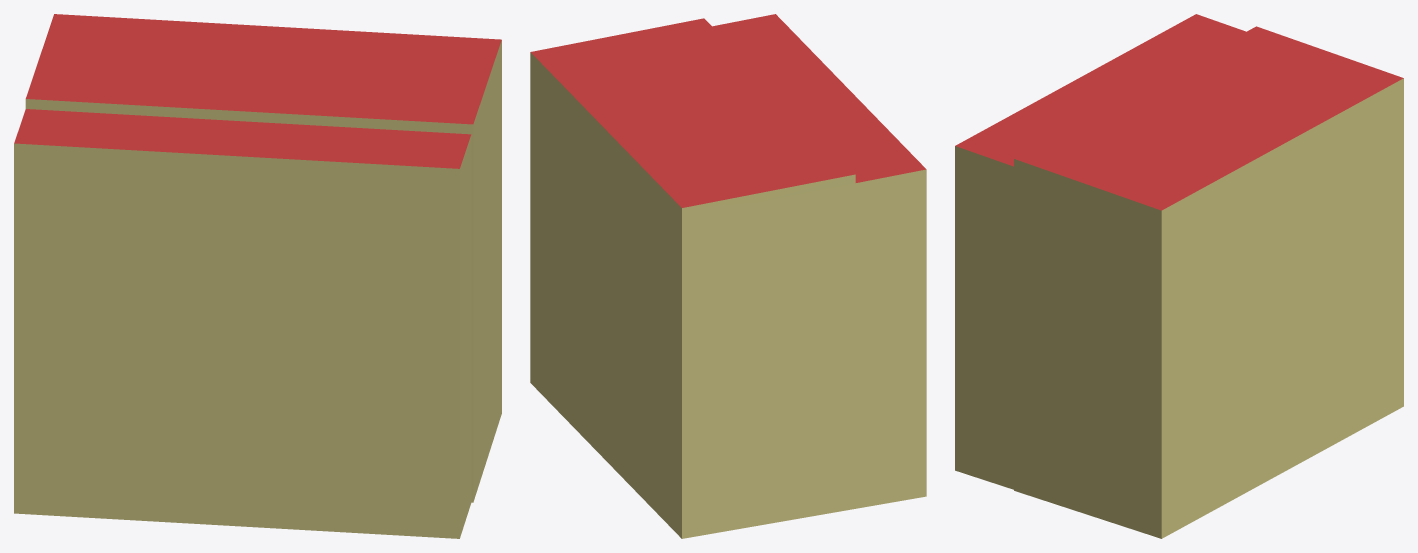
3 renders of one model, left to right at view 1: azimuth 30°, elevation 25°; view 2: azimuth 150°, elevation 25°; view 3: azimuth 270°, elevation 25°, orthographic. The views are drawn at different scales.
Size of the model in its own units: 7.4 by 7.01 by 5.72.
